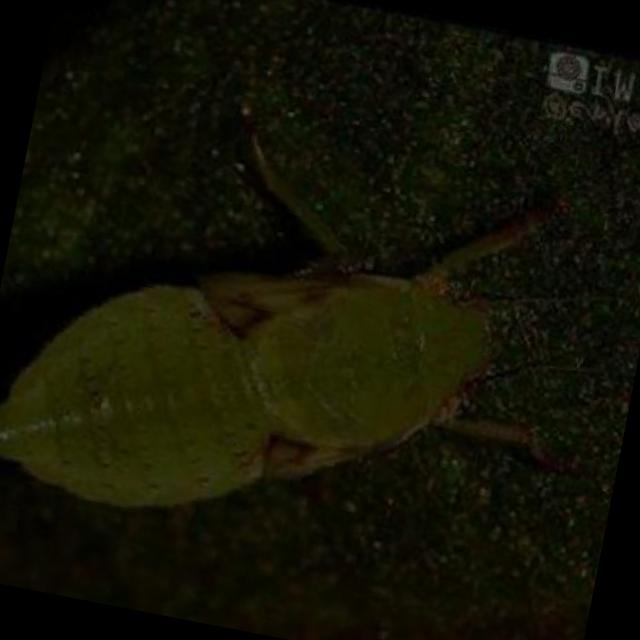green-leafhopper: (0, 183, 515, 571)
